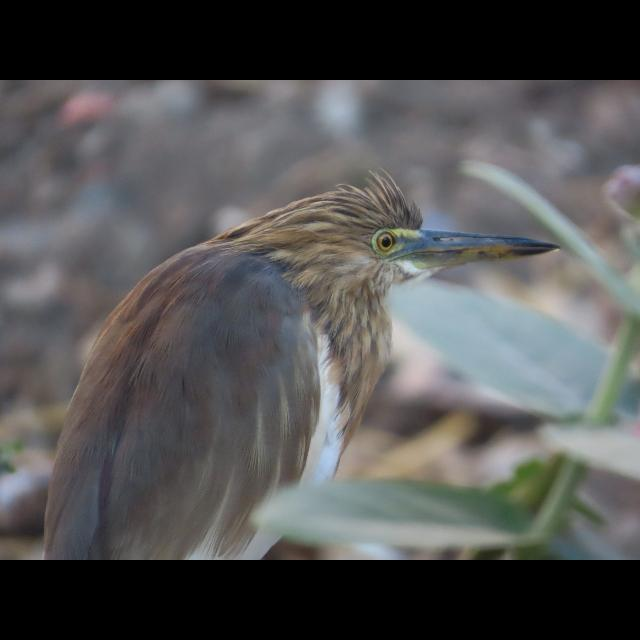heron: (44, 168, 568, 558)
